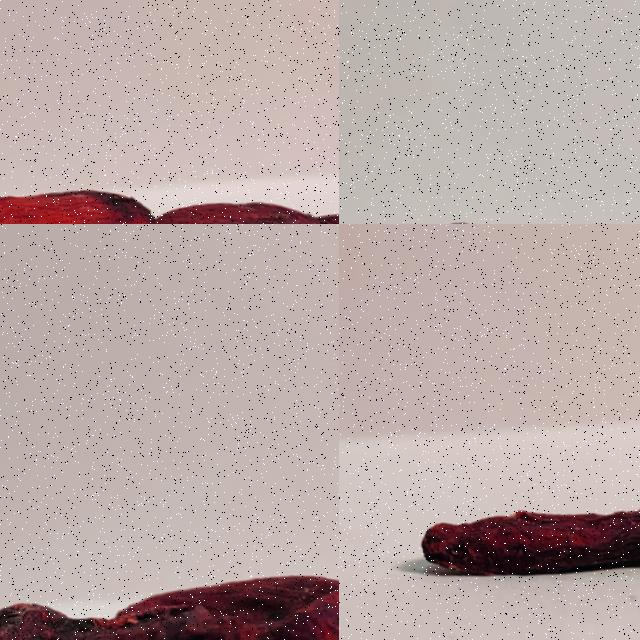Agglomerated_cocoabeans: (0, 41, 338, 223), (0, 496, 338, 639), (339, 145, 639, 223)
Flat_cocoabeans: (339, 399, 639, 639)
